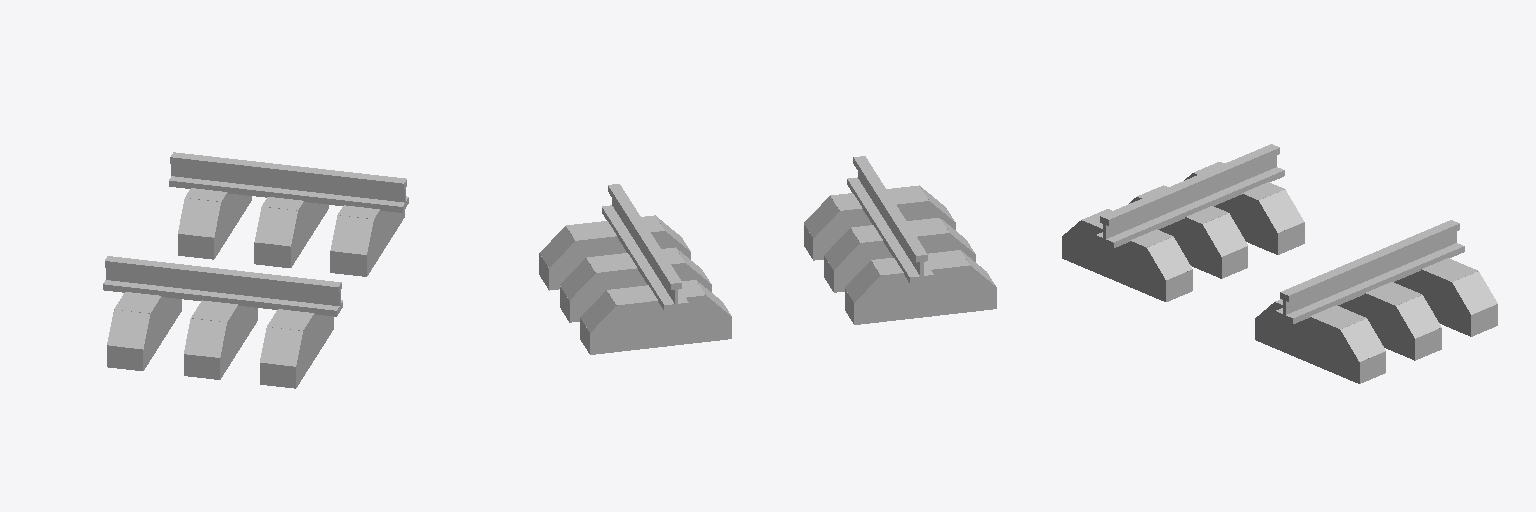
Rendered from diag.obj.
3 views of the same model, side by side, from view 1: azimuth 30°, elevation 25°; view 2: azimuth 150°, elevation 25°; view 3: azimuth 270°, elevation 25° (orthographic).
Visible parts, largest first — view 1: cube; view 2: cube; view 3: cube.
Part boxes in pixels (left/top/right/bottom): cube: left=103, top=152, right=408, bottom=388; cube: left=539, top=156, right=996, bottom=354; cube: left=1062, top=144, right=1497, bottom=383.
Size of the model in its own units: 2.59 by 0.4738 by 2.59.